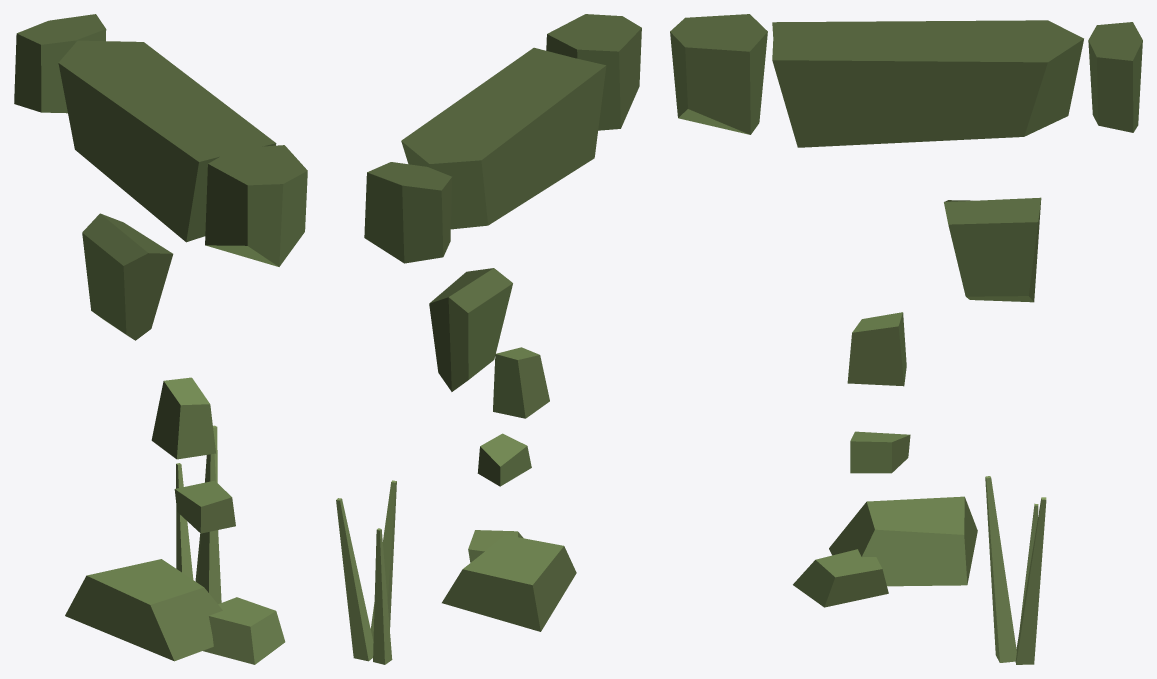
Rendered from SA_Bld_Motel_Sign_Overgrowth_01.gltf.
3 renders of one model, left to right at view 1: azimuth 30°, elevation 25°; view 2: azimuth 150°, elevation 25°; view 3: azimuth 270°, elevation 25°, orthographic. The views are drawn at different scales.
Parts seen in each view (by area): view 1: SA_Bld_Motel_Sign_Overgrowth_01; view 2: SA_Bld_Motel_Sign_Overgrowth_01; view 3: SA_Bld_Motel_Sign_Overgrowth_01.
Part boxes in pixels (box(x1,y1,x2,y2)): SA_Bld_Motel_Sign_Overgrowth_01: box(14, 14, 307, 664); SA_Bld_Motel_Sign_Overgrowth_01: box(336, 14, 641, 664); SA_Bld_Motel_Sign_Overgrowth_01: box(670, 14, 1142, 664).
Bounding box in the file's own units: 2.63 × 7.87 × 5.8.
Materials: 1 (1 with a texture image).
